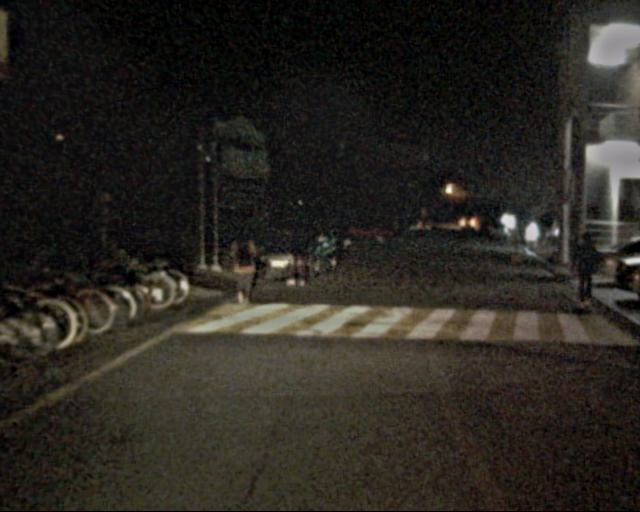person: (225, 225, 263, 311), (284, 217, 319, 291), (569, 233, 602, 311)
